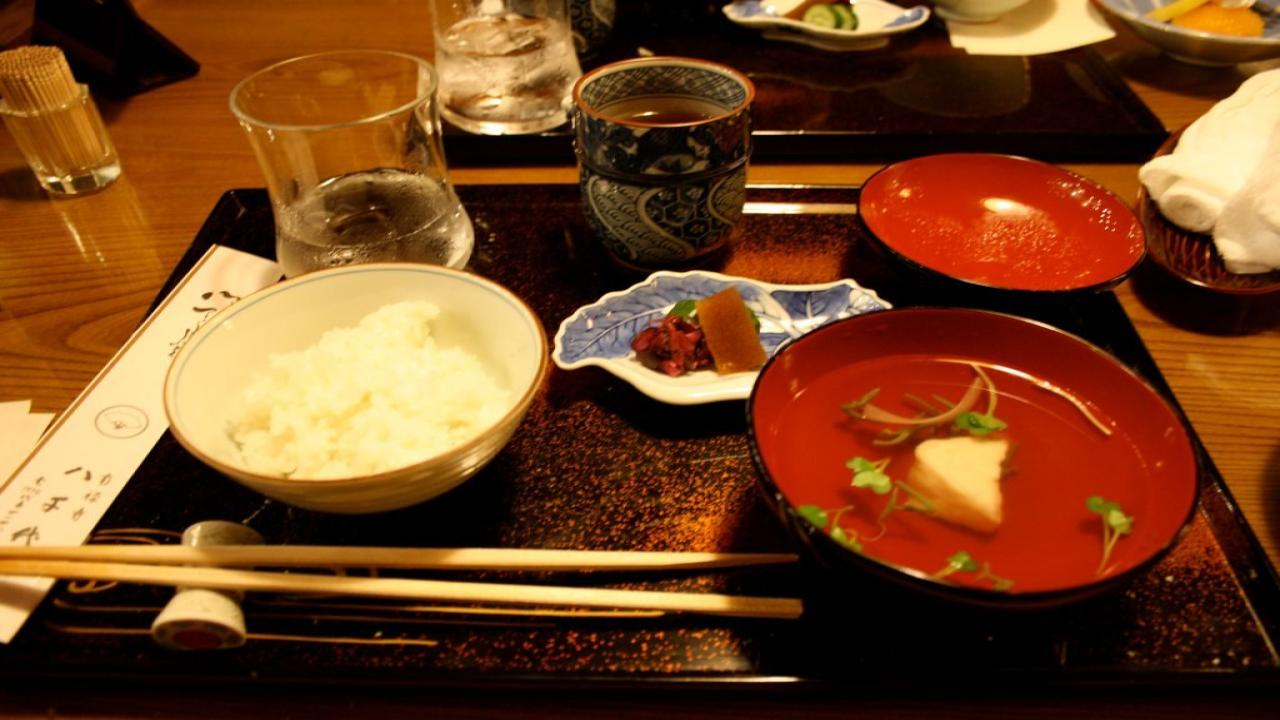chopstick: (0, 547, 802, 617)
